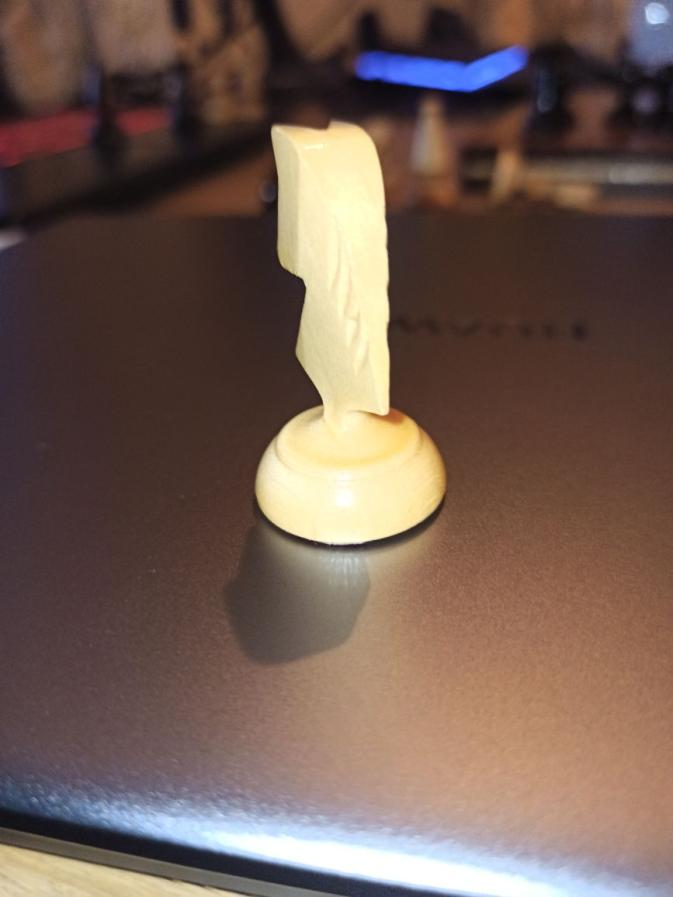wknight: (254, 117, 450, 549)
